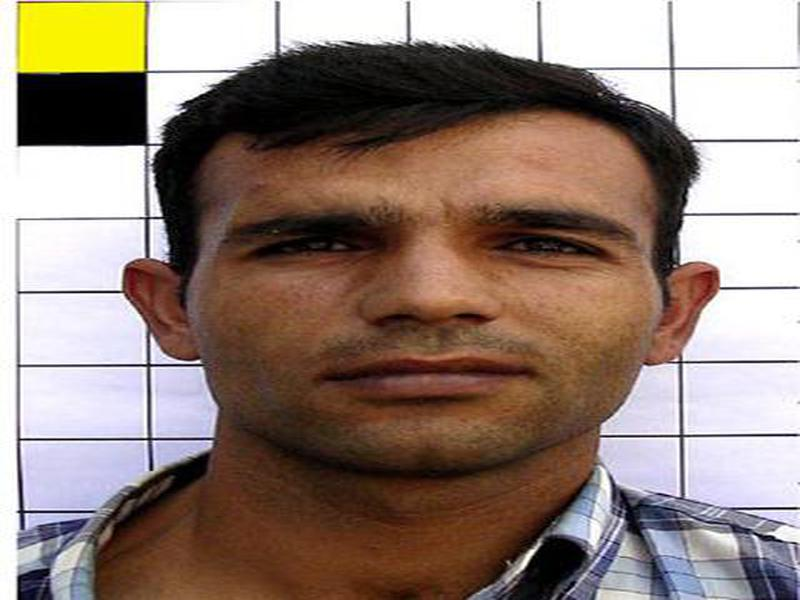without_mask: (189, 106, 666, 480)
